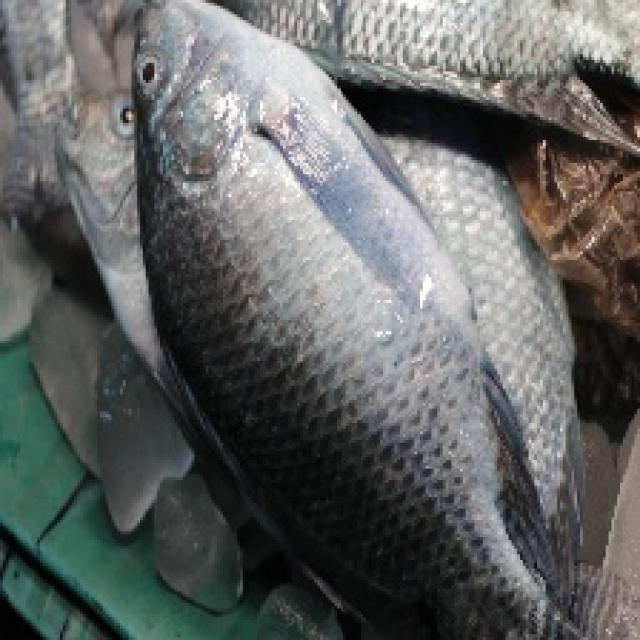Fresh: (112, 9, 540, 604)
